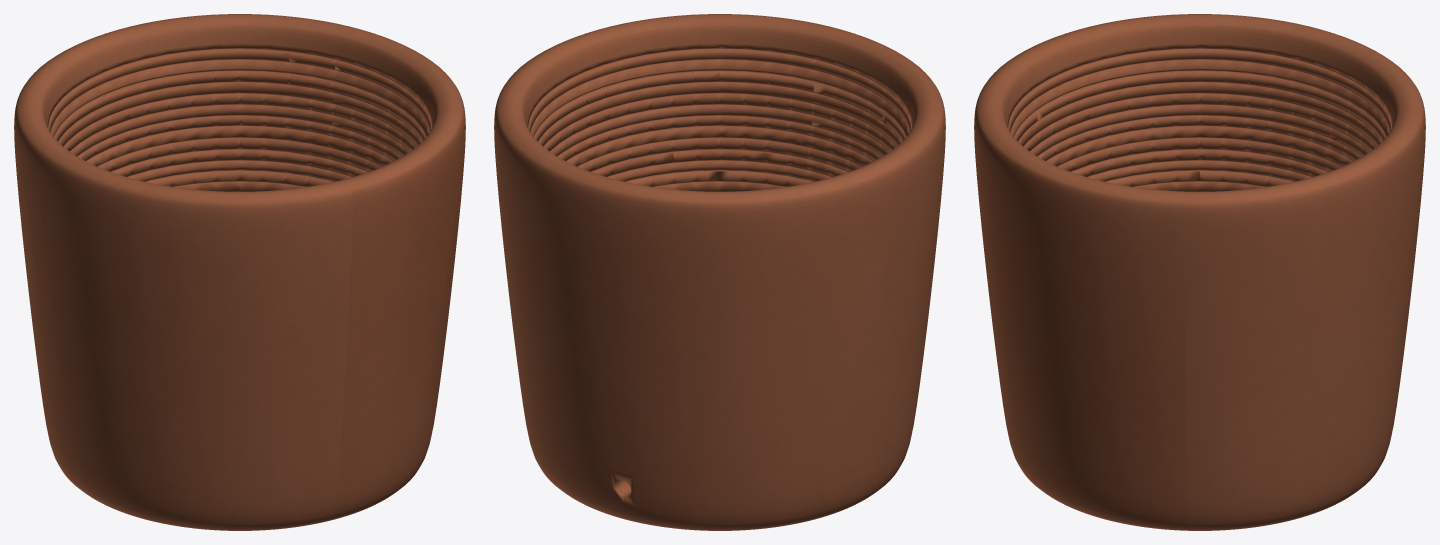
The model's file is e474b847-db24-4b11-bab9-d4aed0628abb.glb.
3 views of the same model, side by side, from view 1: azimuth 30°, elevation 25°; view 2: azimuth 150°, elevation 25°; view 3: azimuth 270°, elevation 25° (orthographic).
Visible parts, largest first — view 1: Cube.001; view 2: Cube.001; view 3: Cube.001.
Part boxes in pixels (x1=…): Cube.001: x1=14, y1=14, x2=465, y2=530; Cube.001: x1=494, y1=14, x2=945, y2=530; Cube.001: x1=974, y1=14, x2=1425, y2=530.
Bounding box in the file's own units: 4.03 × 3.5 × 4.03.
Materials: 1 (1 with a texture image).
